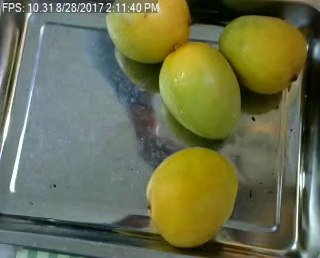Mango: (148, 147, 241, 249), (158, 40, 243, 139), (217, 15, 308, 94), (106, 0, 190, 61)
